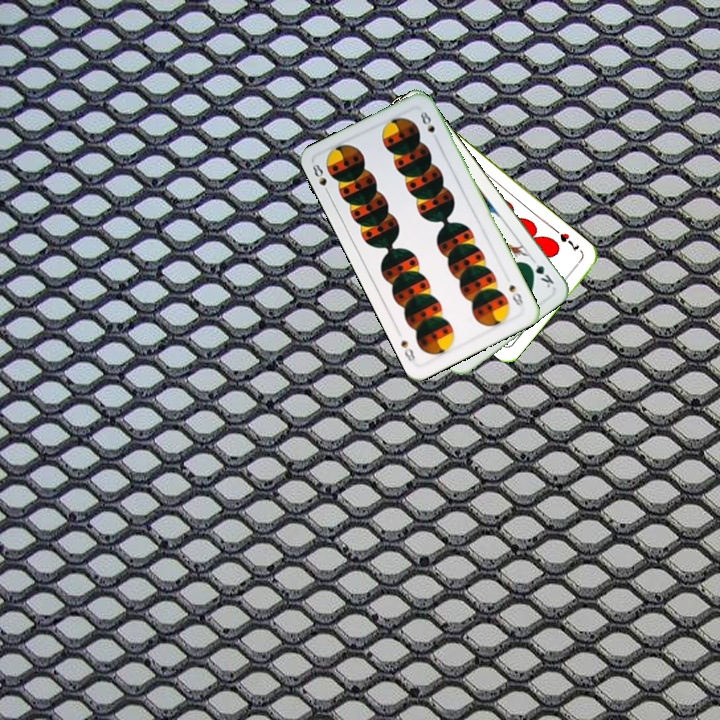GK: (523, 254, 557, 290)
H7: (556, 229, 582, 254)
S8: (308, 159, 333, 198), (505, 280, 526, 308)
